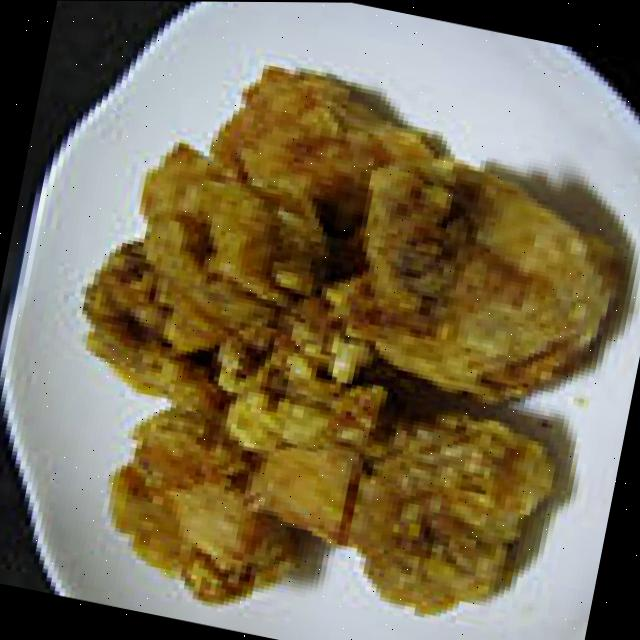鸡肉料理 含炸鸡: (58, 0, 640, 640)
